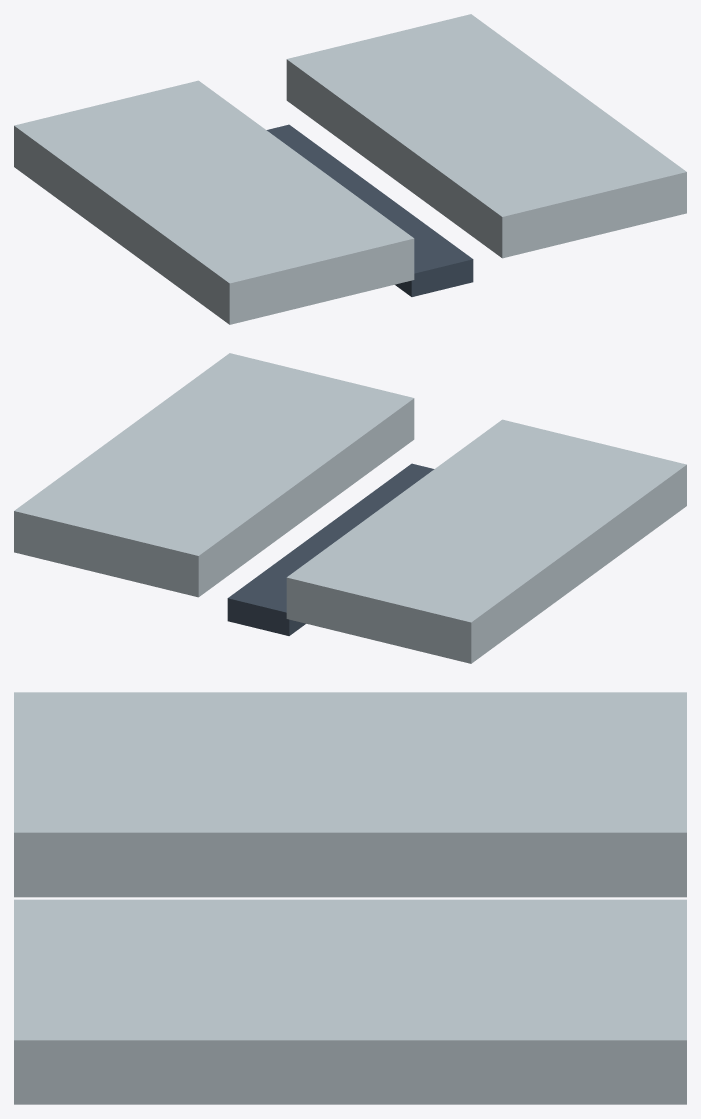
Rendered from render.glb.
3 views of the same model, one above another, from view 1: azimuth 30°, elevation 25°; view 2: azimuth 150°, elevation 25°; view 3: azimuth 270°, elevation 25° (orthographic). The views are drawn at different scales.
Visible parts, largest first — view 1: IceSheets, FractureFloor; view 2: IceSheets, FractureFloor; view 3: IceSheets.
Boxes of the visible parts, x1,y1,x2,y2 form: IceSheets: (14,14,686,324); FractureFloor: (266,124,473,296); IceSheets: (14,353,686,663); FractureFloor: (227,463,434,635); IceSheets: (14,692,686,1104).
Bounding box in the file's own units: 2.08 × 0.32 × 1.7.
